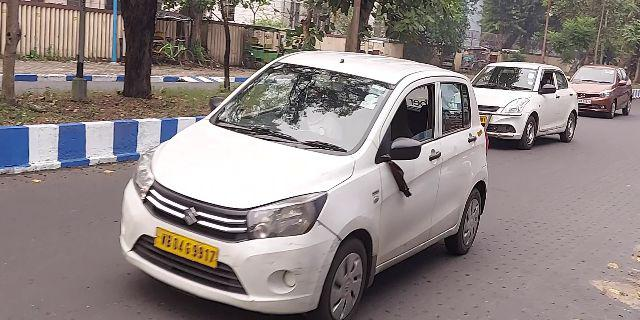Car: (124, 50, 487, 300), (465, 60, 579, 146), (572, 63, 632, 122)
